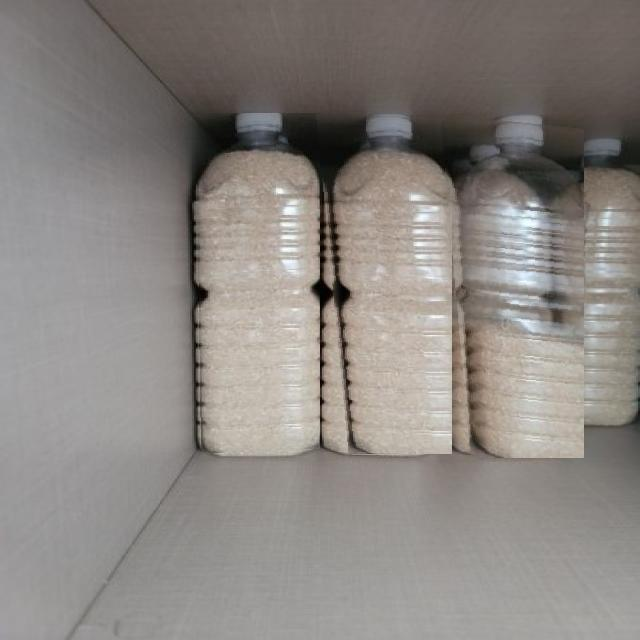plastic bottle: (440, 114, 584, 458), (316, 114, 452, 454), (196, 113, 320, 454)
